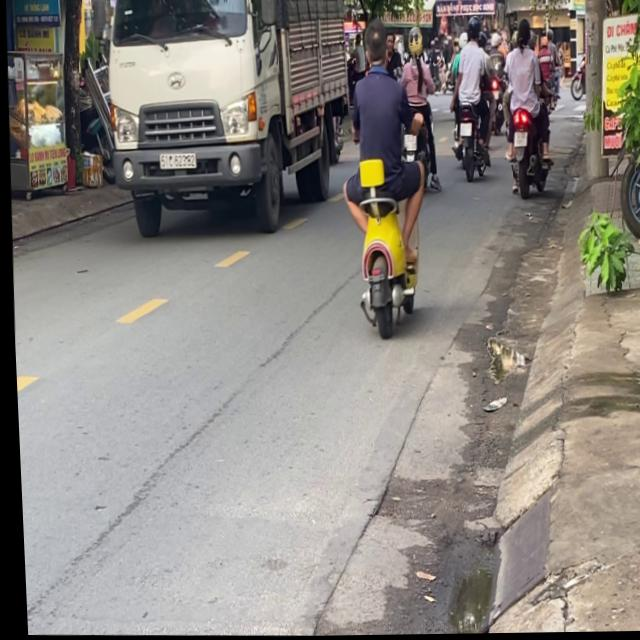helmet: (406, 27, 424, 59), (465, 17, 480, 44)
licenseplate: (332, 16, 433, 341), (496, 16, 555, 200), (442, 15, 495, 182), (394, 27, 439, 196)
motorcyclist: (359, 20, 390, 73), (513, 18, 531, 50)
nohelmet: (511, 132, 525, 148), (458, 124, 470, 138)
